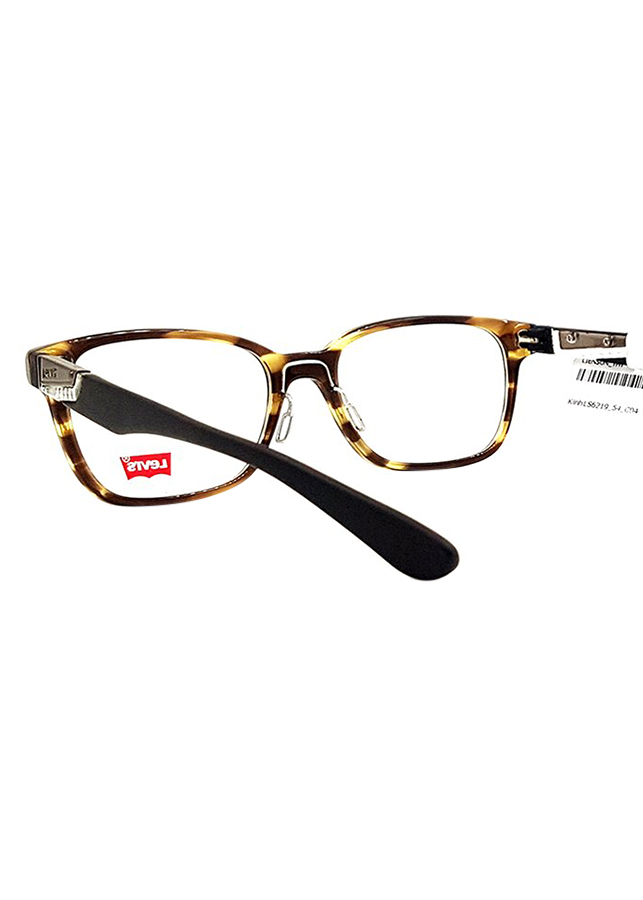Levi's: (111, 447, 183, 485)
